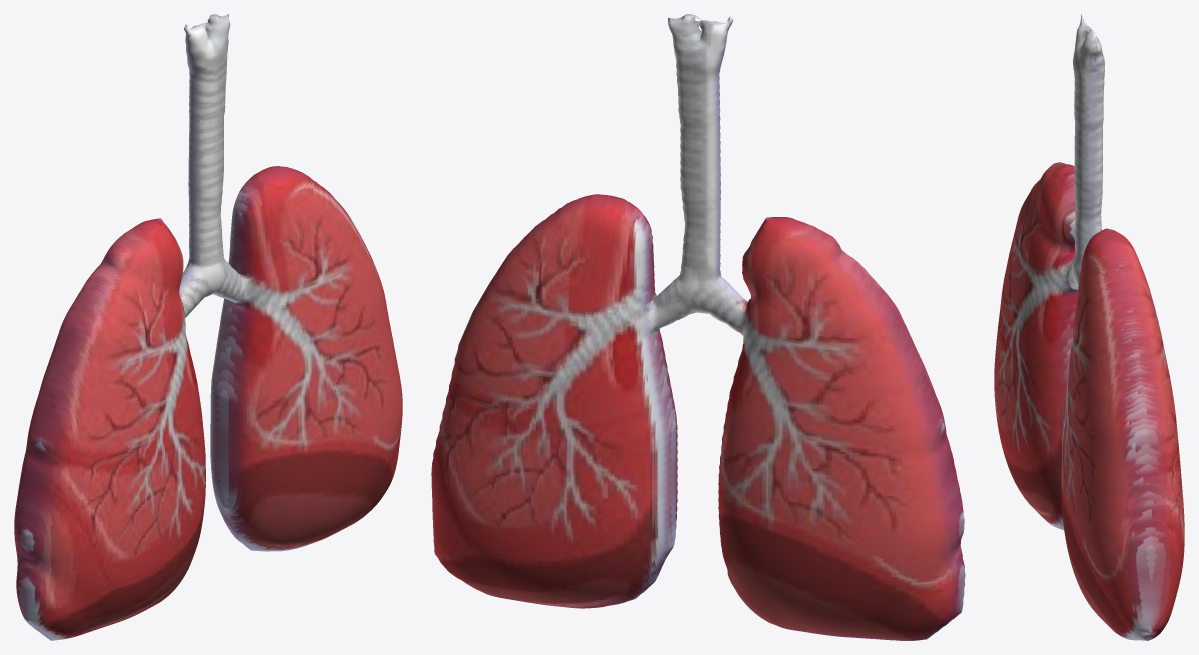
File: paru.glb
3 renders of one model, left to right at view 1: azimuth 30°, elevation 25°; view 2: azimuth 150°, elevation 25°; view 3: azimuth 270°, elevation 25°, orthographic. The views are drawn at different scales.
Parts seen in each view (by area): view 1: mesh_id61; view 2: mesh_id61; view 3: mesh_id61.
Boxes of the visible parts, x1,y1,x2,y2 form: mesh_id61: [14, 14, 402, 640]; mesh_id61: [431, 14, 965, 640]; mesh_id61: [994, 14, 1184, 640].
Bounding box in the file's own units: 0.1824 × 0.2275 × 0.073.
1 material, 1 textured.
